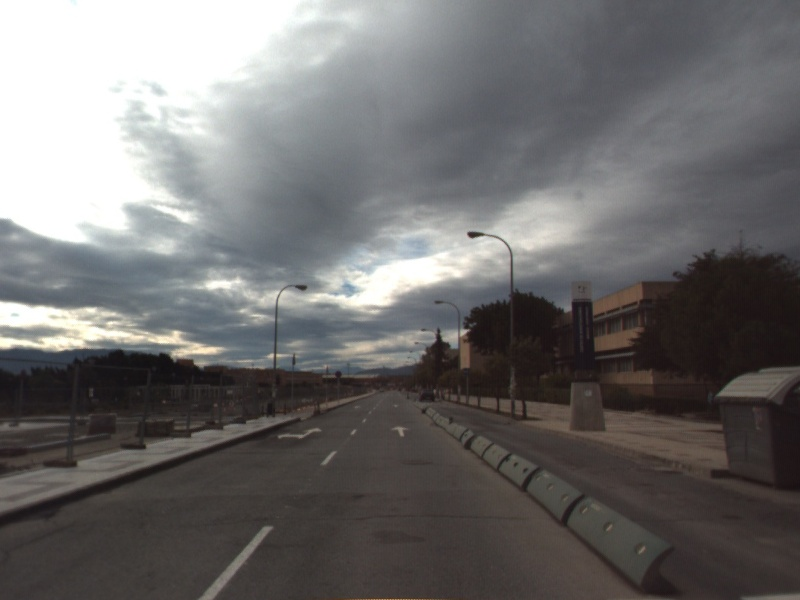STRAIGHT: (389, 424, 411, 438)
STRAIGHT_LEFT: (275, 425, 324, 441)
